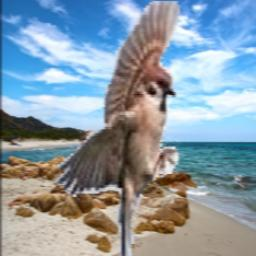Sparrow: (53, 0, 181, 256)
